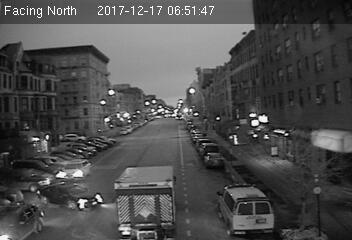car: (36, 179, 103, 215), (55, 158, 93, 184), (203, 151, 224, 167)
police: (215, 184, 272, 235)
truck: (114, 163, 181, 240)
